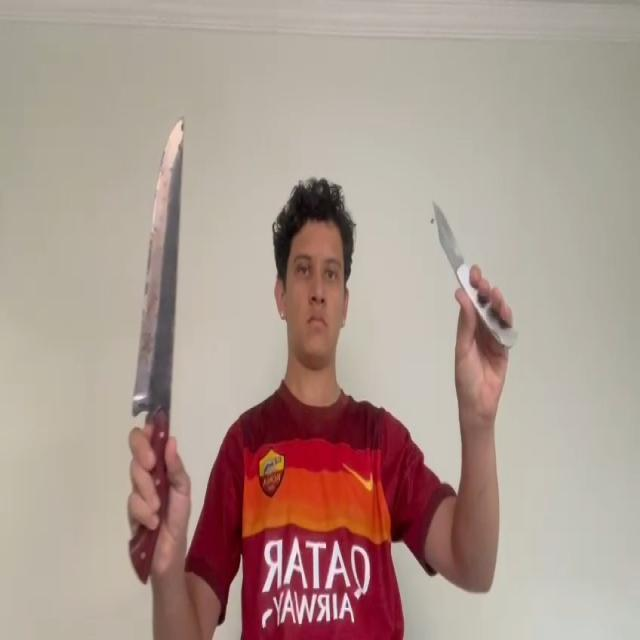knife: (133, 113, 186, 415), (433, 199, 463, 273)
